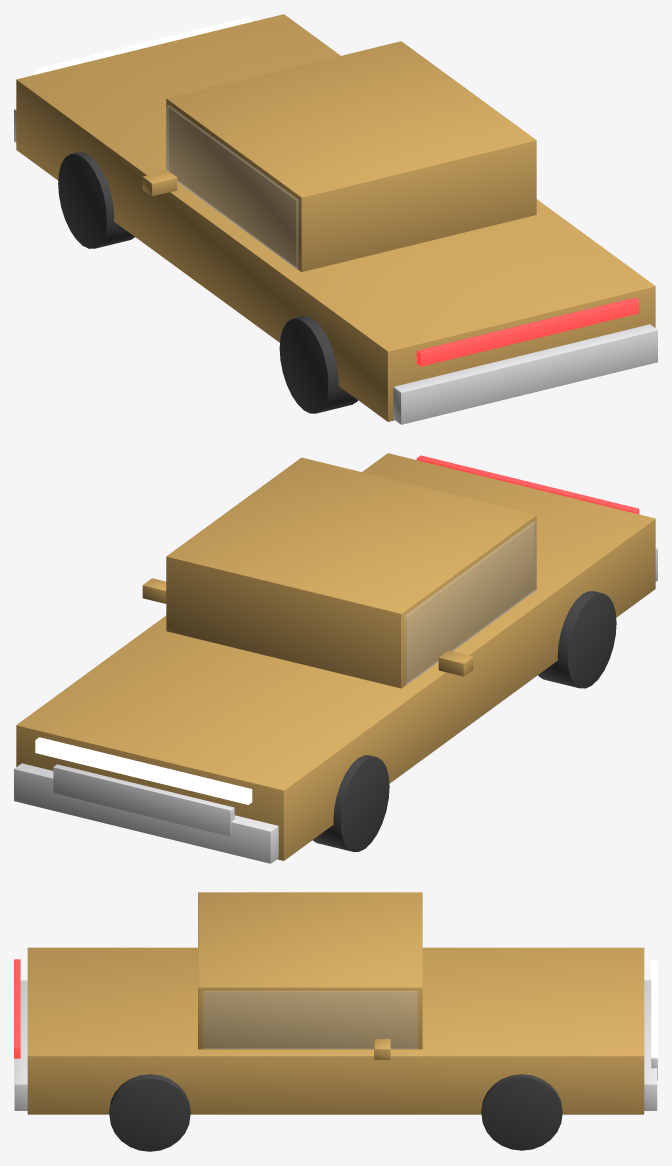
File: vehicle.glb
3 renders of one model, top to bottom at view 1: azimuth 30°, elevation 25°; view 2: azimuth 150°, elevation 25°; view 3: azimuth 270°, elevation 25°, orthographic. The views are drawn at different scales.
Parts seen in each view (by area): view 1: BODY_Main, BODY_Roof, BODY_Bumpers_Rear, GLASS_Greenhouse, WHEEL_RR_Tire, WHEEL_FR_Tire, LIGHT_Taillights, LIGHT_Headlights, BODY_Mirror_R; view 2: BODY_Main, BODY_Roof, GLASS_Greenhouse, BODY_Bumpers_Front, BODY_Grille, WHEEL_RR_Tire, WHEEL_FR_Tire, LIGHT_Headlights, LIGHT_Taillights, BODY_Mirror_R; view 3: BODY_Main, BODY_Roof, GLASS_Greenhouse, WHEEL_RL_Tire, WHEEL_FL_Tire, BODY_Bumpers_Rear, BODY_Bumpers_Front, LIGHT_Taillights, LIGHT_Headlights.
Part boxes in pixels (left/top/right/bottom): BODY_Main: left=16, top=14, right=655, bottom=421; BODY_Roof: left=166, top=41, right=536, bottom=271; BODY_Bumpers_Rear: left=393, top=324, right=657, bottom=424; GLASS_Greenhouse: left=166, top=105, right=298, bottom=268; WHEEL_RR_Tire: left=279, top=316, right=357, bottom=413; WHEEL_FR_Tire: left=58, top=152, right=134, bottom=248; LIGHT_Taillights: left=416, top=297, right=639, bottom=366; LIGHT_Headlights: left=35, top=17, right=252, bottom=74; BODY_Mirror_R: left=142, top=170, right=177, bottom=196; BODY_Main: left=16, top=453, right=655, bottom=860; BODY_Roof: left=166, top=457, right=536, bottom=688; GLASS_Greenhouse: left=404, top=521, right=536, bottom=684; BODY_Bumpers_Front: left=14, top=763, right=278, bottom=863; BODY_Grille: left=53, top=764, right=234, bottom=836; WHEEL_RR_Tire: left=538, top=591, right=616, bottom=688; WHEEL_FR_Tire: left=312, top=755, right=389, bottom=851; LIGHT_Headlights: left=35, top=737, right=252, bottom=804; LIGHT_Taillights: left=416, top=455, right=639, bottom=514; BODY_Mirror_R: left=438, top=650, right=473, bottom=676; BODY_Main: left=27, top=947, right=644, bottom=1114; BODY_Roof: left=198, top=892, right=422, bottom=1049; GLASS_Greenhouse: left=203, top=991, right=417, bottom=1048; WHEEL_RL_Tire: left=109, top=1074, right=190, bottom=1151; WHEEL_FL_Tire: left=481, top=1074, right=562, bottom=1150; BODY_Bumpers_Rear: left=14, top=980, right=27, bottom=1110; BODY_Bumpers_Front: left=644, top=980, right=657, bottom=1110; LIGHT_Taillights: left=14, top=959, right=20, bottom=1058; LIGHT_Headlights: left=651, top=960, right=657, bottom=1057.
Size of the model in its own units: 2.28 by 1.26 by 4.76.
